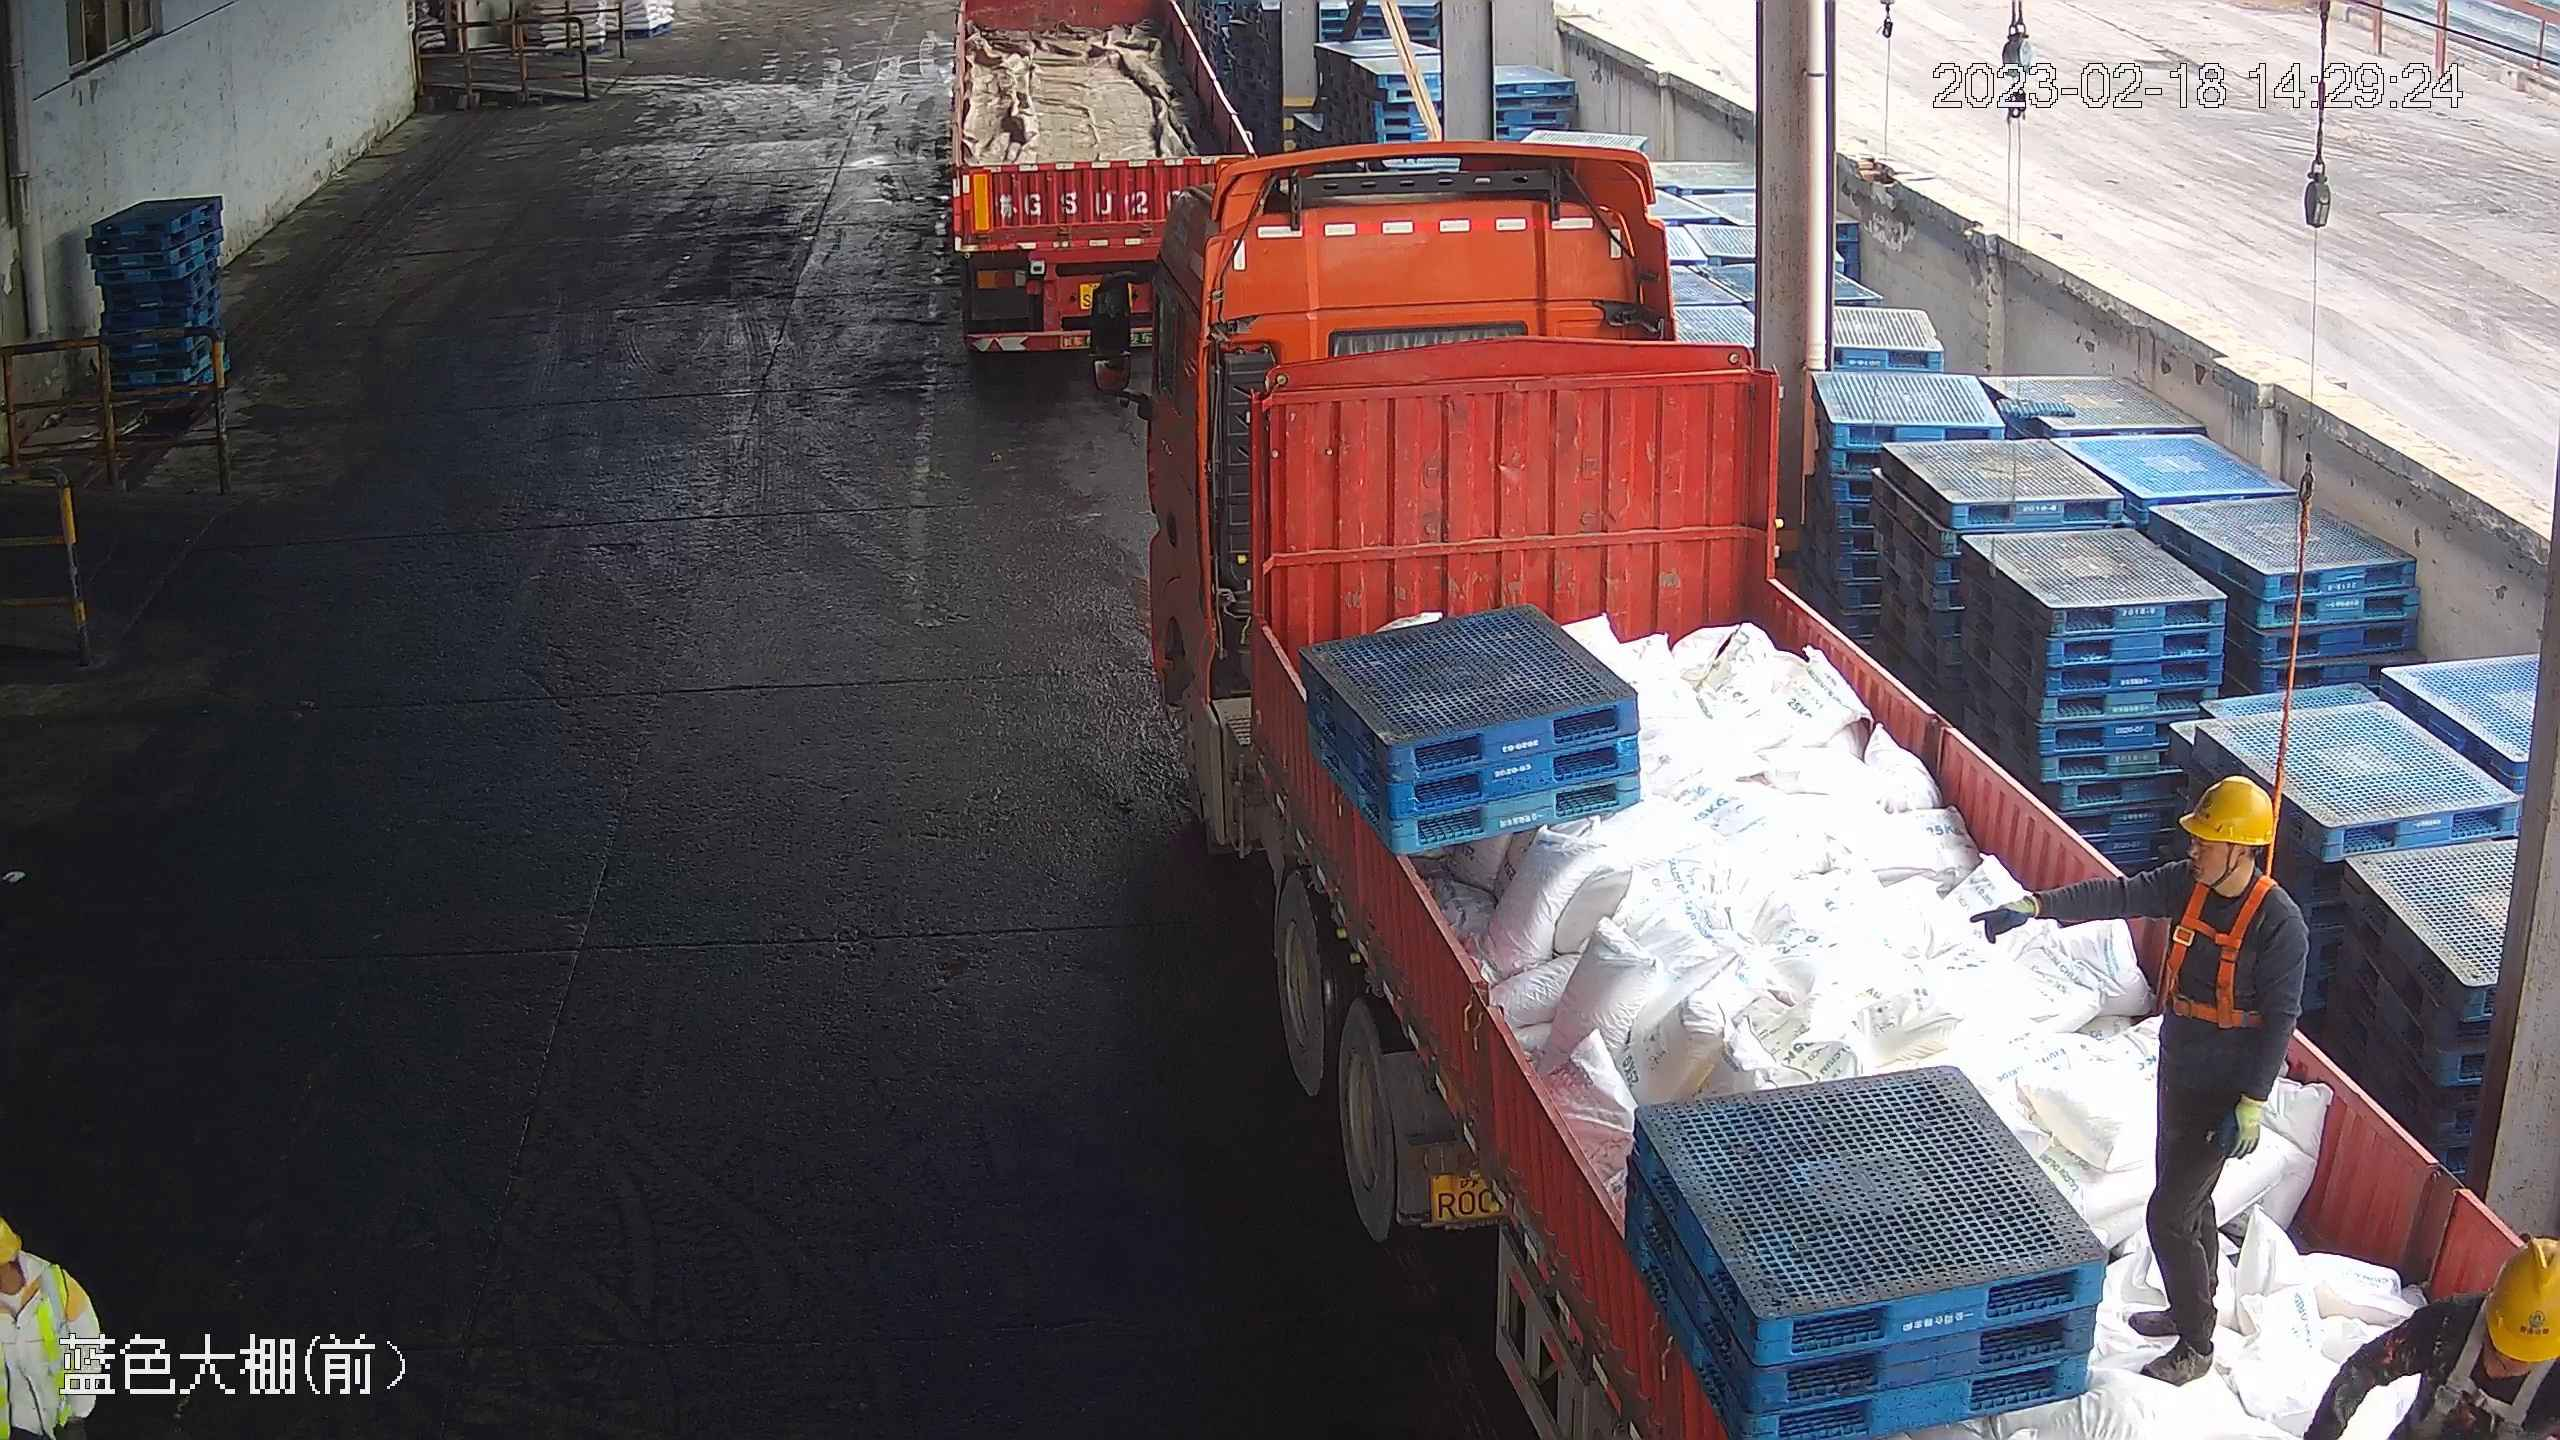belt: (2151, 867, 2283, 1024)
head: (2133, 773, 2306, 968), (2392, 1235, 2560, 1430)
helmet: (2481, 1235, 2560, 1362), (2177, 774, 2278, 847)
people: (1980, 772, 2312, 1383)
truck: (1070, 155, 2548, 1440), (935, 1, 1268, 377)
